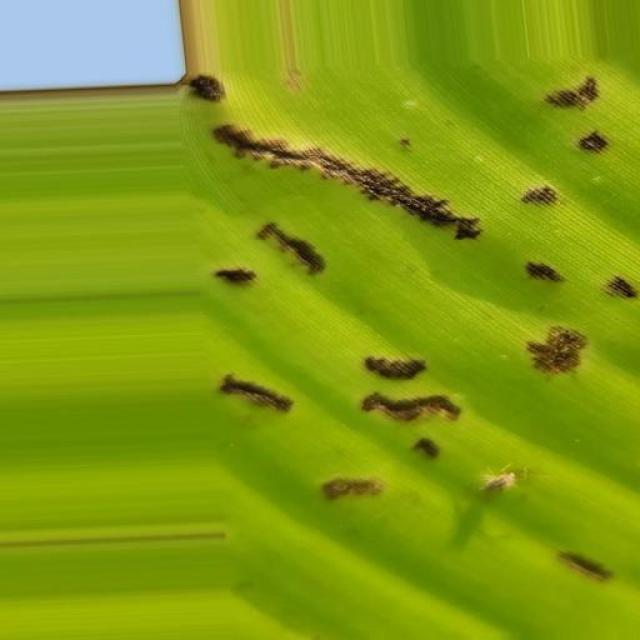Black_rot: (187, 54, 640, 618)
